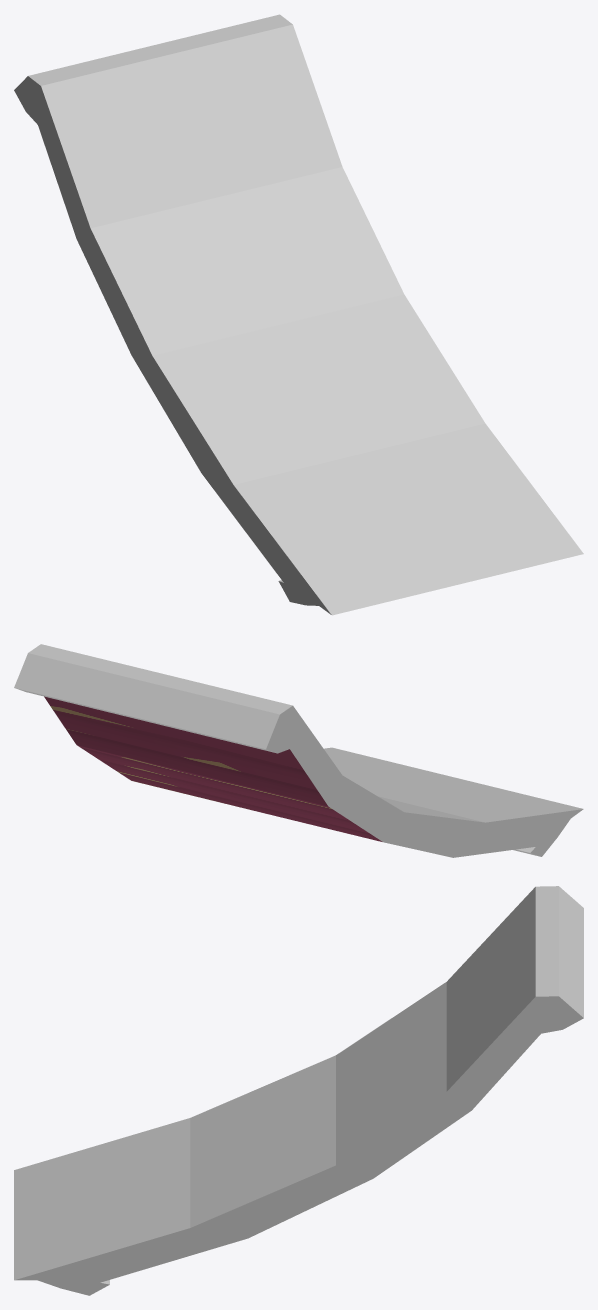
Rendered from SM_Bld_Roof_M_Concave_Half_01.fbx.
3 views of the same model, one above another, from view 1: azimuth 30°, elevation 25°; view 2: azimuth 150°, elevation 25°; view 3: azimuth 270°, elevation 25° (orthographic). The views are drawn at different scales.
Parts seen in each view (by area): view 1: SM_Bld_Roof_M_Concave_Half_01; view 2: SM_Bld_Roof_M_Concave_Half_01; view 3: SM_Bld_Roof_M_Concave_Half_01.
Part boxes in pixels (box(x1,y1,x2,y2)): SM_Bld_Roof_M_Concave_Half_01: box(14, 14, 583, 615); SM_Bld_Roof_M_Concave_Half_01: box(14, 644, 583, 857); SM_Bld_Roof_M_Concave_Half_01: box(14, 886, 583, 1295).
Size of the model in its own units: 125 by 158 by 273.
